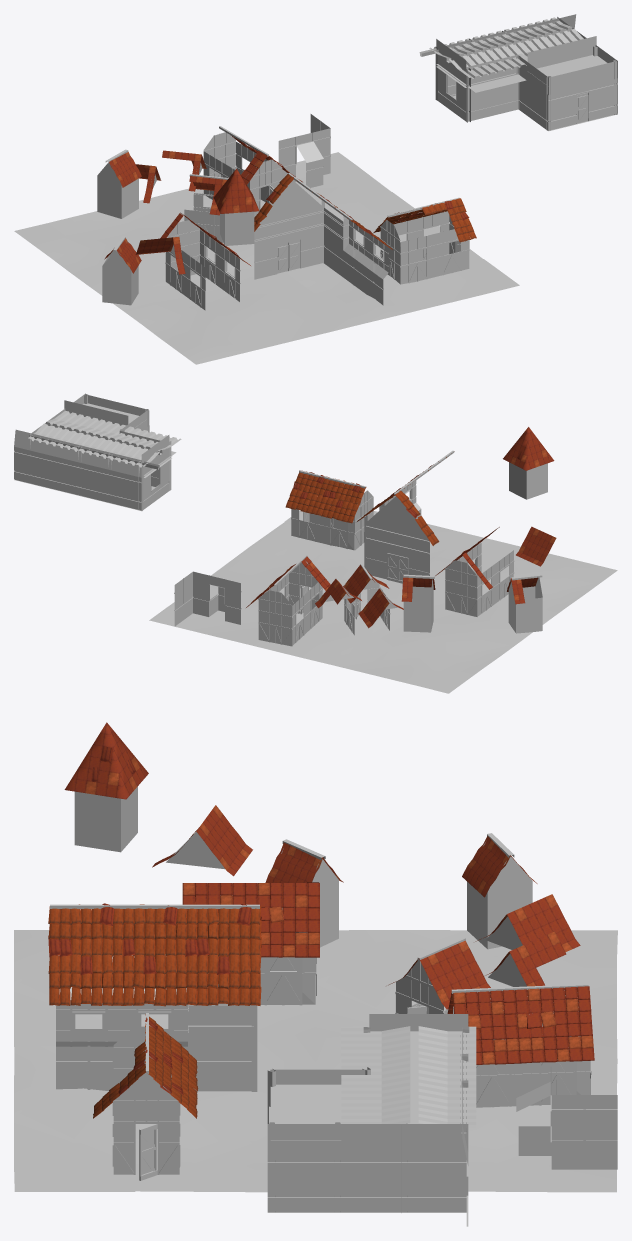
Rendered from OldTown.fbx.
3 views of the same model, one above another, from view 1: azimuth 30°, elevation 25°; view 2: azimuth 150°, elevation 25°; view 3: azimuth 270°, elevation 25° (orthographic). The views are drawn at different scales.
Visible parts, largest first — view 1: StoneBlock_Tile.002, WoodCeiling.001, WoodAndWall3_Door.001, Half_Wood_Wall.013, Plane.003, Plane.005, Half_Wood_Wall.001, CurveTile2_LP.001, MidCentury_Tile.016, RoofPlane1.007, WoodPlate.008, WoodPlate.005 (+33 smaller); view 2: StoneBlock_Tile.002, WoodAndWall1.001, WoodCeiling.001, CurveTile2_LP.001, Half_Wood_Wall.013, MidCentury_Tile, MidCentury_Tile.022, Plane.005, Plane.003, RoofPlane1.007, Plane.004, RoofPlane1.008 (+25 smaller); view 3: StoneBlock_Tile.002, CurveTile2_LP.002, WoodAndWall1.002, WoodCeiling.001, SquareTile2_LP.006, SquareTile2_LP.005, Half_Wood_Wall.014, Half_Wood_Wall.009, MidCentury_Tile.013, CurveTile2_LP.001, Plane.004, RoofPlane1.007 (+23 smaller).
Boxes of the visible parts, <box> form: StoneBlock_Tile.002: <box>14,152,519,364</box>; WoodCeiling.001: <box>429,17,583,78</box>; WoodAndWall3_Door.001: <box>548,78,617,131</box>; Half_Wood_Wall.013: <box>278,128,330,188</box>; Plane.003: <box>97,154,138,218</box>; Plane.005: <box>102,241,138,305</box>; Half_Wood_Wall.001: <box>467,73,518,121</box>; CurveTile2_LP.001: <box>373,198,476,242</box>; MidCentury_Tile.016: <box>401,234,435,284</box>; RoofPlane1.007: <box>213,168,259,213</box>; WoodPlate.008: <box>527,36,596,68</box>; WoodPlate.005: <box>549,61,616,94</box>; StoneBlock_Tile.002: <box>149,510,617,693</box>; WoodAndWall1.001: <box>14,429,141,510</box>; WoodCeiling.001: <box>28,410,181,467</box>; CurveTile2_LP.001: <box>285,470,366,523</box>; Half_Wood_Wall.013: <box>193,571,241,624</box>; MidCentury_Tile: <box>258,590,292,646</box>; MidCentury_Tile.022: <box>445,560,477,616</box>; Plane.005: <box>508,577,542,633</box>; Plane.003: <box>403,579,433,632</box>; RoofPlane1.007: <box>503,427,554,470</box>; Plane.004: <box>509,462,547,499</box>; RoofPlane1.008: <box>516,526,556,566</box>; StoneBlock_Tile.002: <box>14,930,617,1192</box>; CurveTile2_LP.002: <box>48,903,261,1006</box>; WoodAndWall1.002: <box>267,1124,468,1212</box>; WoodCeiling.001: <box>341,1026,476,1128</box>; SquareTile2_LP.006: <box>447,986,594,1064</box>; SquareTile2_LP.005: <box>182,882,319,957</box>; Half_Wood_Wall.014: <box>551,1095,617,1169</box>; Half_Wood_Wall.009: <box>188,1003,251,1091</box>; MidCentury_Tile.013: <box>113,1082,179,1174</box>; CurveTile2_LP.001: <box>93,1014,198,1118</box>; Plane.004: <box>74,786,137,852</box>; RoofPlane1.007: <box>64,722,148,799</box>.
Size of the model in its own units: 3022 by 894 by 1831.
